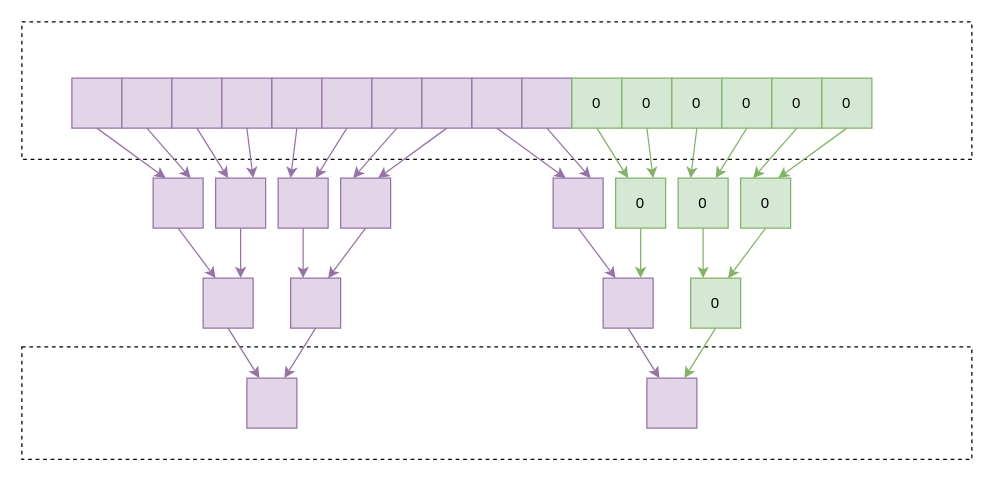
Some shapes in this 994 by 481 pixel diagram are drawn without their labels. Here are the shapes that lost their labels. From the top down, the box of each, then its label:
(21, 21, 972, 159): Events
(21, 346, 972, 459): Storage
